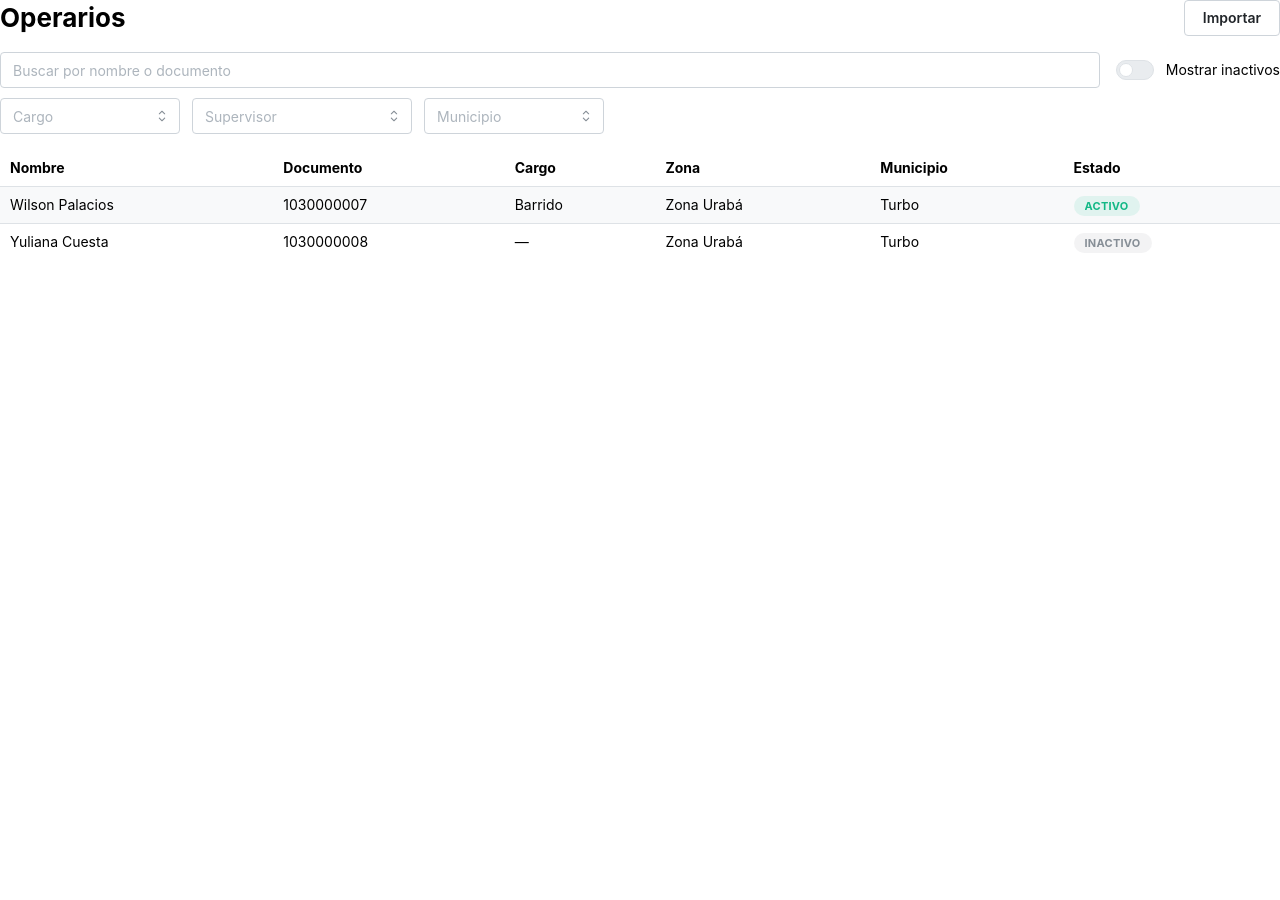
Test: OperariosPage › shows write controls for write roles
Expected: the button "Importar" is shown, [1184,0,1279,36]
Action buttons live inside the drawer — open it by clicking the row
Click the text "Wilson Palacios": (62, 204) [0,186,273,223]
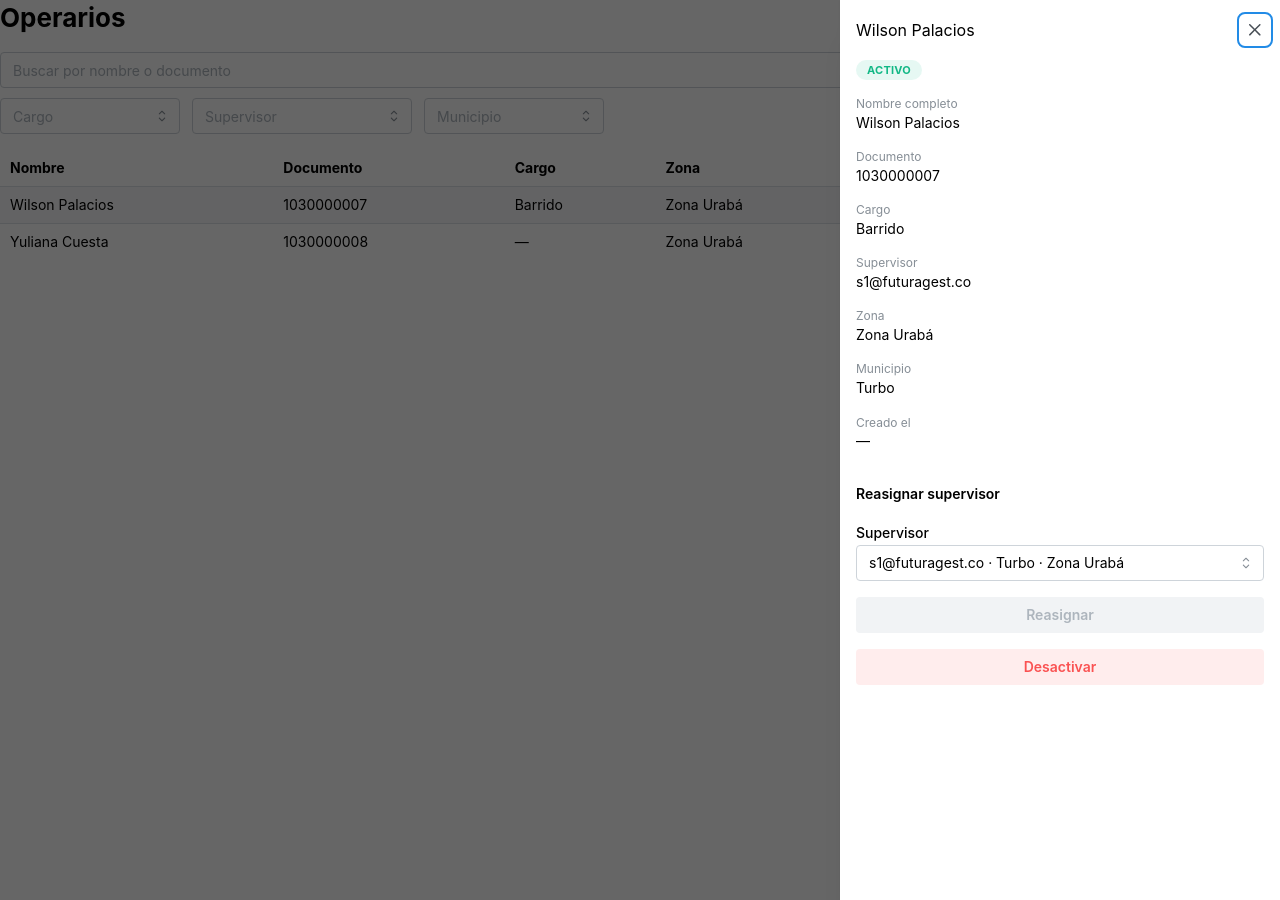
Expected: the button "Desactivar" is shown, [856,649,1264,685]
